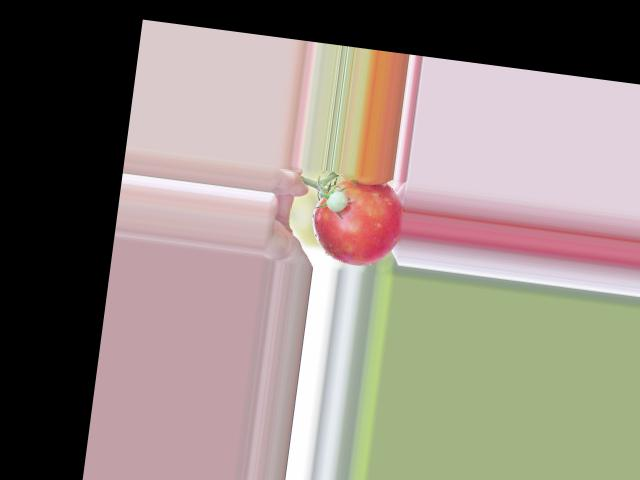tomato: (306, 174, 408, 270)
